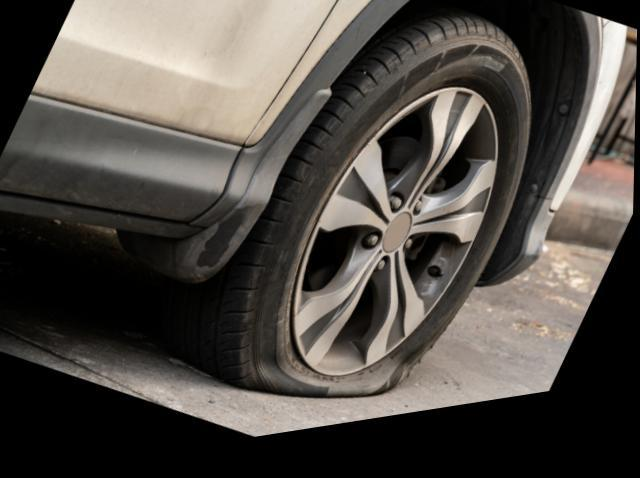tire flat: (214, 27, 532, 409)
